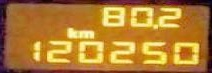-: (151, 23, 158, 28)
0: (170, 41, 199, 64), (75, 40, 102, 63), (128, 6, 152, 27)
1: (30, 40, 40, 61)
2: (44, 39, 71, 62), (108, 40, 135, 63), (156, 7, 180, 26)
5: (139, 41, 166, 64)
8: (99, 6, 125, 26)
X: (77, 29, 94, 38), (65, 26, 77, 38)
